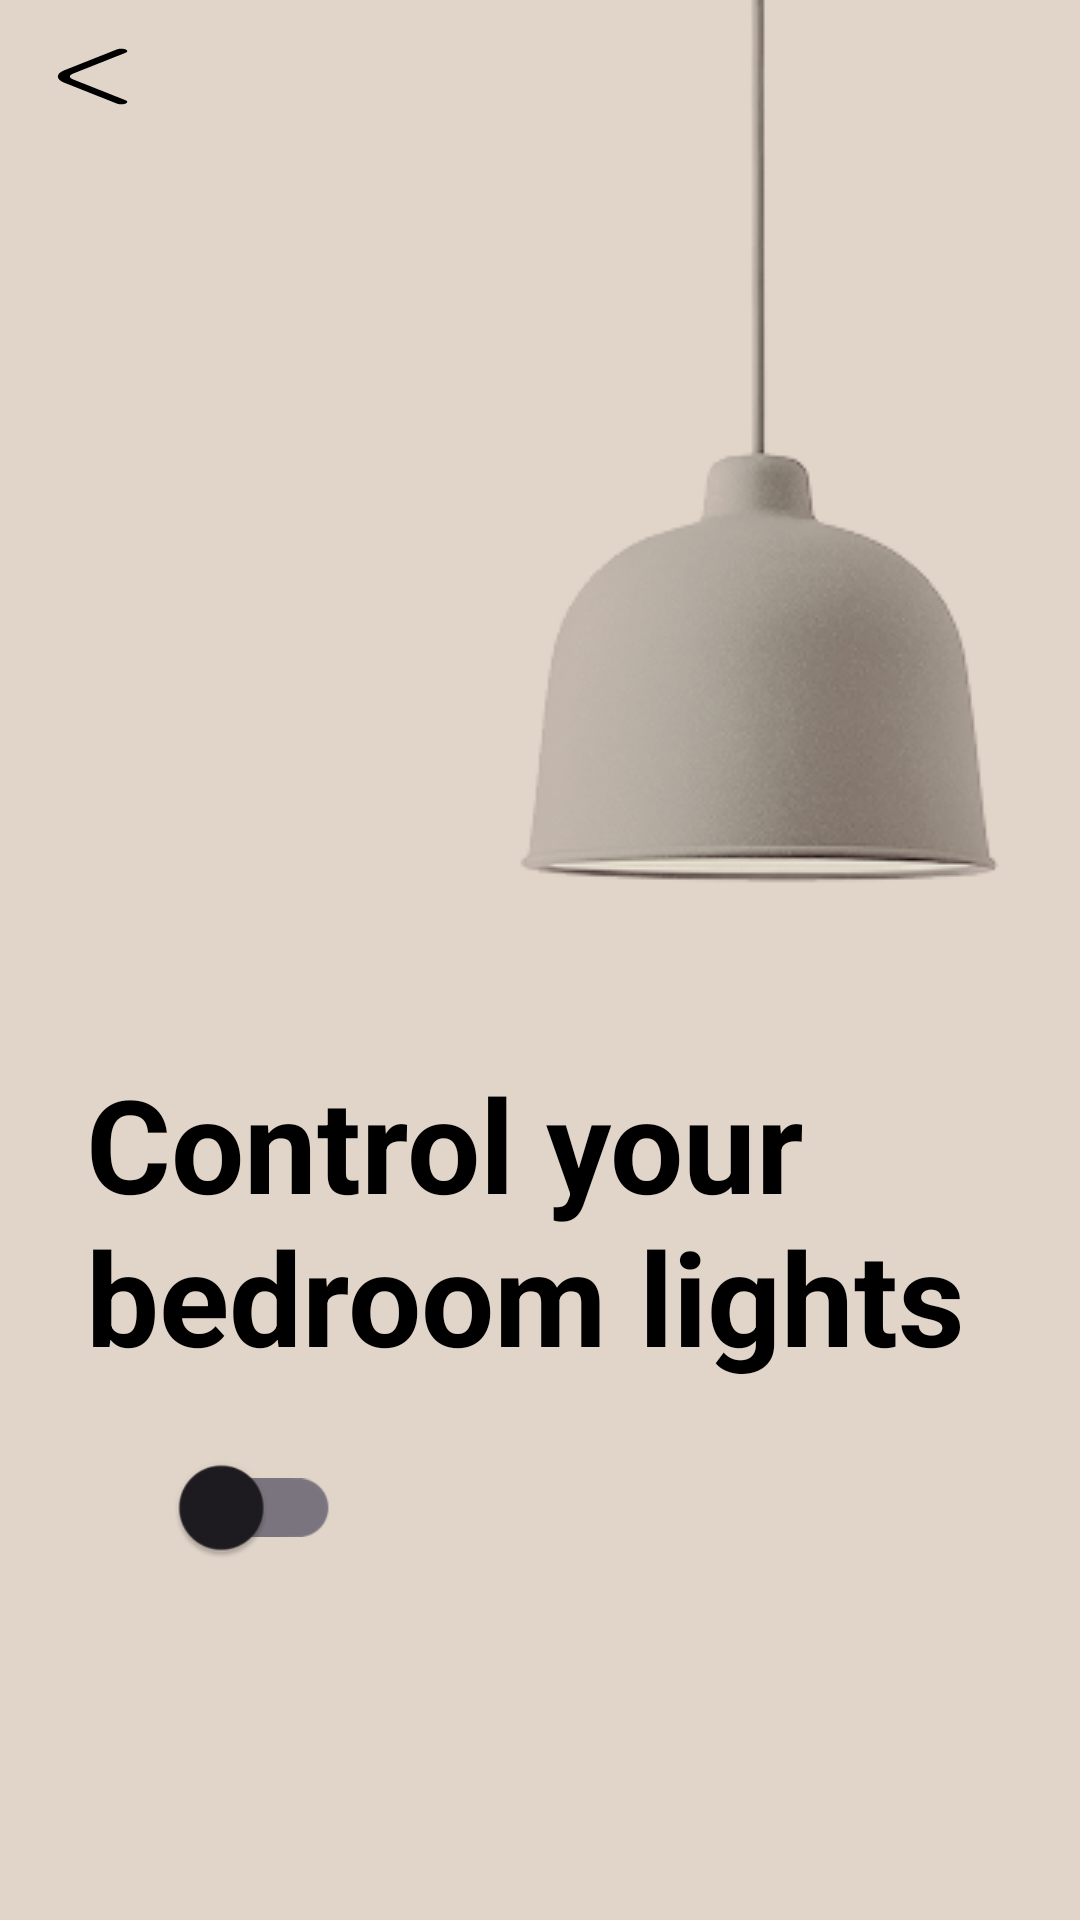

Where to tap for icons on this 1080 x 1920 app screen, as (x,y):
arrow left: (92,76)
